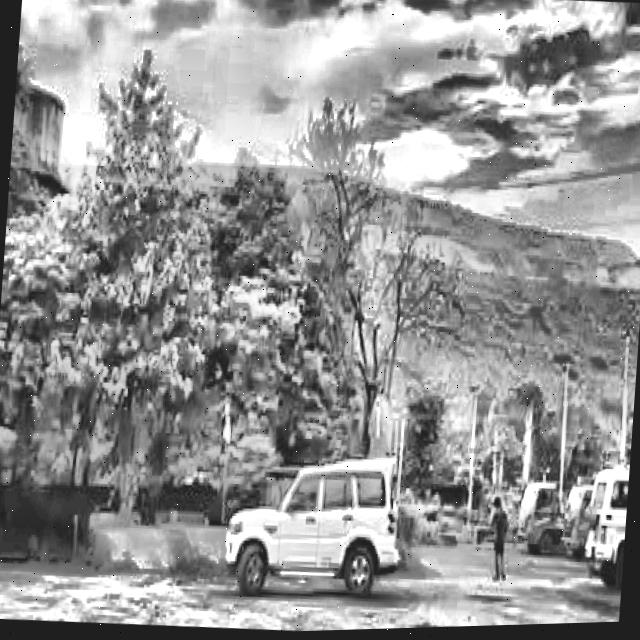light_vehicle: (221, 446, 410, 609), (588, 466, 629, 592)
